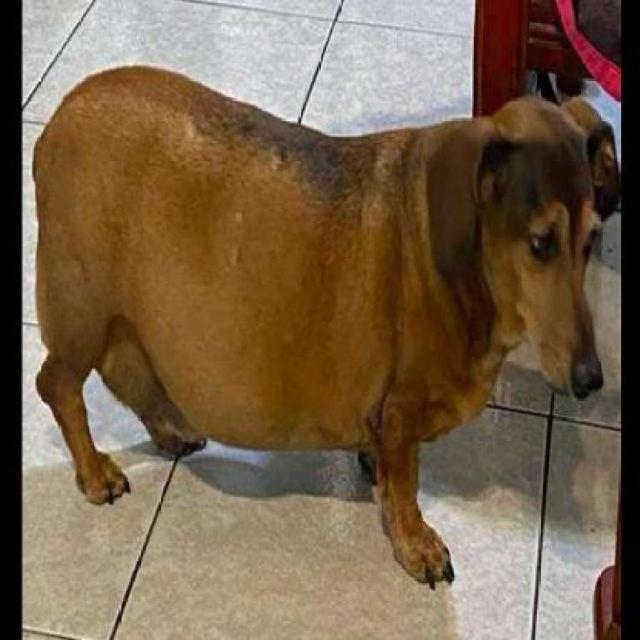Dog: (28, 63, 620, 597)
